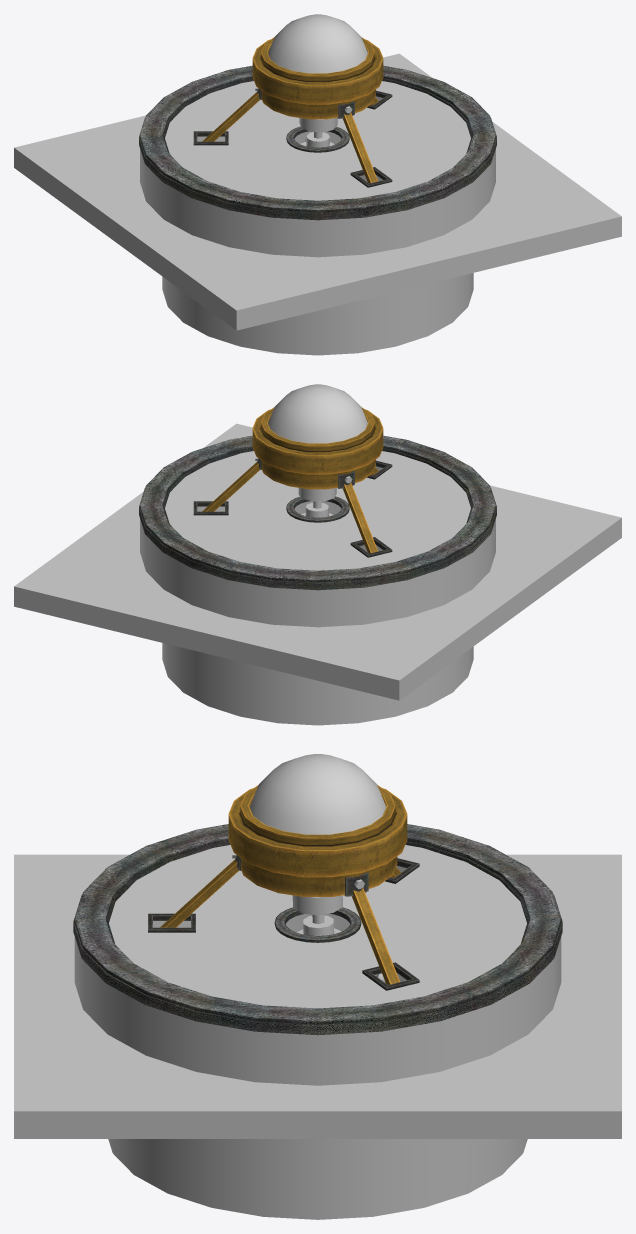
Rendered from centrifuge.DAE.
3 renders of one model, top to bottom at view 1: azimuth 30°, elevation 25°; view 2: azimuth 150°, elevation 25°; view 3: azimuth 270°, elevation 25°, orthographic. The views are drawn at different scales.
Visible parts, largest first — view 1: raised_floor, well, centrefuge, mesh, glass_dome, engine; view 2: raised_floor, well, centrefuge, mesh, glass_dome, engine; view 3: raised_floor, well, centrefuge, mesh, glass_dome, engine.
Boxes of the visible parts, bbox=[...] form: raised_floor: bbox=[14, 53, 621, 330]; well: bbox=[140, 96, 495, 355]; centrefuge: bbox=[139, 37, 496, 220]; mesh: bbox=[165, 81, 470, 200]; glass_dome: bbox=[268, 14, 367, 73]; engine: bbox=[299, 118, 337, 147]; raised_floor: bbox=[14, 423, 621, 700]; well: bbox=[140, 466, 495, 725]; centrefuge: bbox=[139, 407, 496, 590]; mesh: bbox=[165, 451, 470, 570]; glass_dome: bbox=[268, 384, 367, 443]; engine: bbox=[298, 488, 336, 517]; raised_floor: bbox=[14, 854, 621, 1138]; well: bbox=[74, 866, 561, 1219]; centrefuge: bbox=[73, 785, 562, 1035]; mesh: bbox=[109, 845, 526, 1008]; glass_dome: bbox=[250, 754, 385, 834]; engine: bbox=[292, 895, 385, 982].
Size of the model in its own units: 5 by 5 by 3.44.
